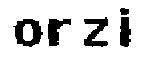i: (115, 6, 138, 48)
o: (11, 17, 44, 51)
r: (48, 17, 74, 47)
z: (82, 17, 110, 50)
